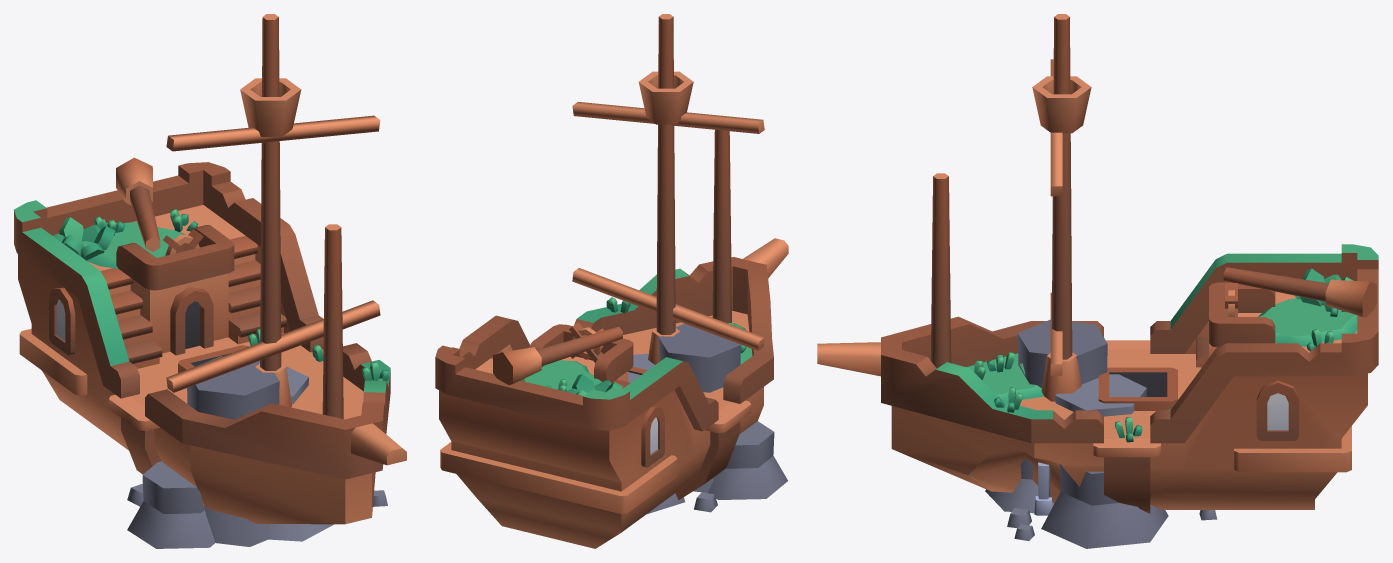
File: temple.glb
The picture shows the model from 3 angles, left to right: view 1: azimuth 30°, elevation 25°; view 2: azimuth 150°, elevation 25°; view 3: azimuth 270°, elevation 25°; orthographic projection. The views are drawn at different scales.
Parts seen in each view (by area): view 1: ship-wreck, rocks-a, sail-a, Group (×3); view 2: ship-wreck, rocks-a, sail-a, Group (×3); view 3: ship-wreck, rocks-a, Group (×3), sail-a, crypt-large.
Part boxes in pixels (x1,y1,x2,y2): ship-wreck: (14, 14, 406, 524); rocks-a: (127, 356, 387, 548); sail-a: (166, 115, 380, 392); Group (×3): (52, 157, 185, 268); ship-wreck: (435, 14, 788, 548); rocks-a: (628, 323, 787, 513); sail-a: (572, 102, 764, 350); Group (×3): (493, 326, 622, 395); ship-wreck: (817, 14, 1378, 513); rocks-a: (985, 319, 1217, 548); Group (×3): (966, 267, 1376, 402); sail-a: (1050, 59, 1062, 375); crypt-large: (1034, 462, 1052, 515).
Bounding box in the file's own units: 5.11 × 10.01 × 10.6.
Materials: 11 (3 with a texture image).
